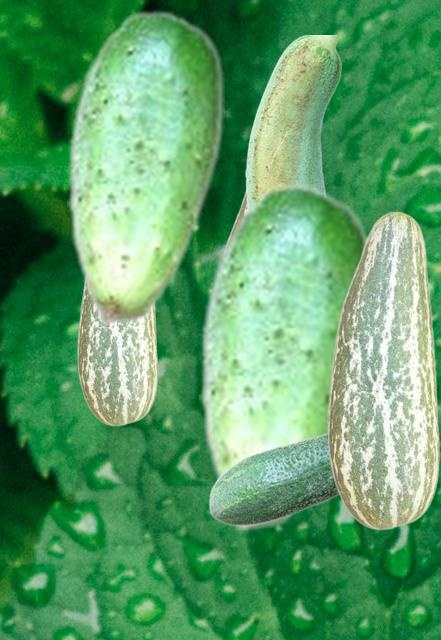cucumber: (199, 182, 369, 532), (67, 8, 223, 326), (327, 211, 439, 529), (245, 35, 342, 206), (208, 432, 338, 525), (77, 288, 157, 425)
